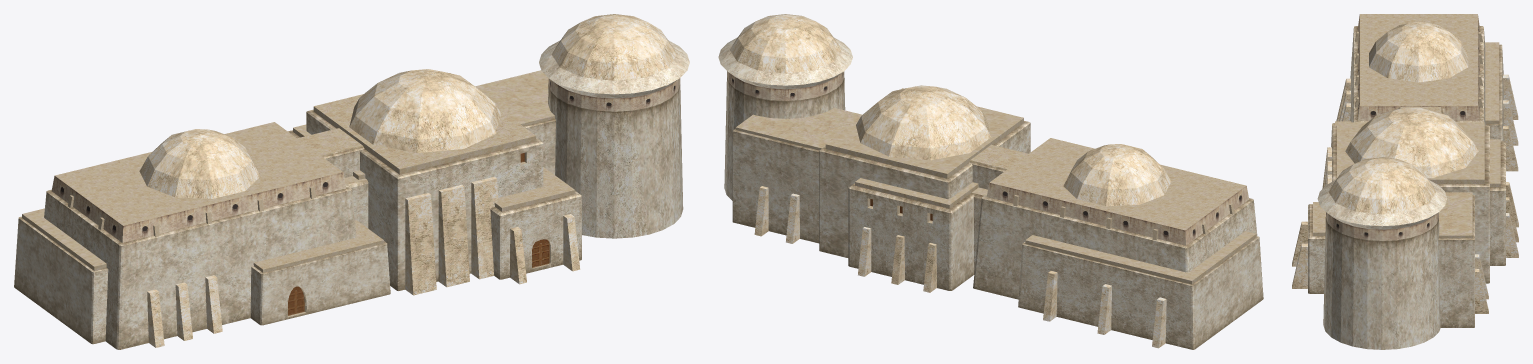
The model's file is thm_tato_block_bldg_64x32_s01_l0.fbx.
3 views of the same model, side by side, from view 1: azimuth 30°, elevation 25°; view 2: azimuth 150°, elevation 25°; view 3: azimuth 270°, elevation 25° (orthographic). The views are drawn at different scales.
Visible parts, largest first — view 1: mesh_node; view 2: mesh_node; view 3: mesh_node.
Boxes of the visible parts, x1,y1,x2,y2 form: mesh_node: [14, 14, 689, 349]; mesh_node: [718, 14, 1263, 349]; mesh_node: [1292, 14, 1518, 349].
Size of the model in its own units: 68.1 by 20.62 by 26.2.
